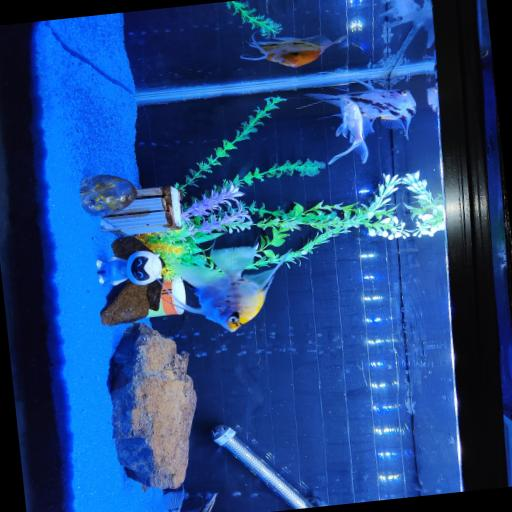Fish: (171, 246, 280, 332), (305, 81, 415, 137), (240, 34, 345, 67), (328, 97, 373, 164), (380, 0, 433, 56), (160, 486, 216, 511), (426, 84, 437, 112)
